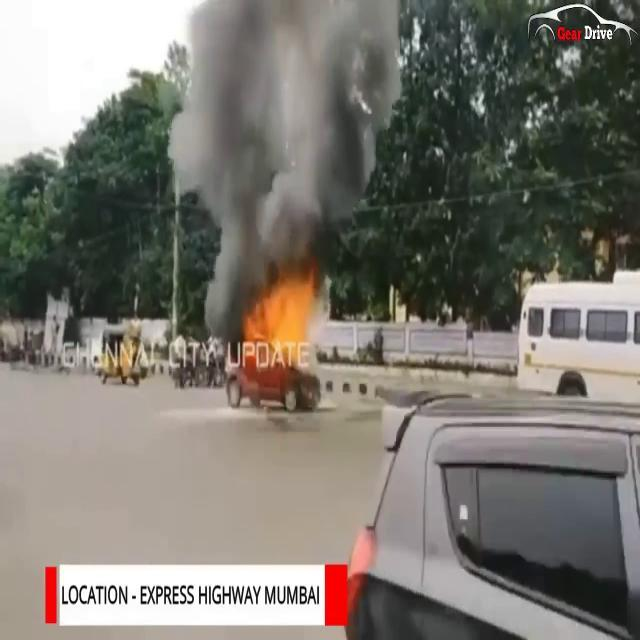Fire: (240, 266, 323, 365)
Smoke: (168, 0, 403, 299)
